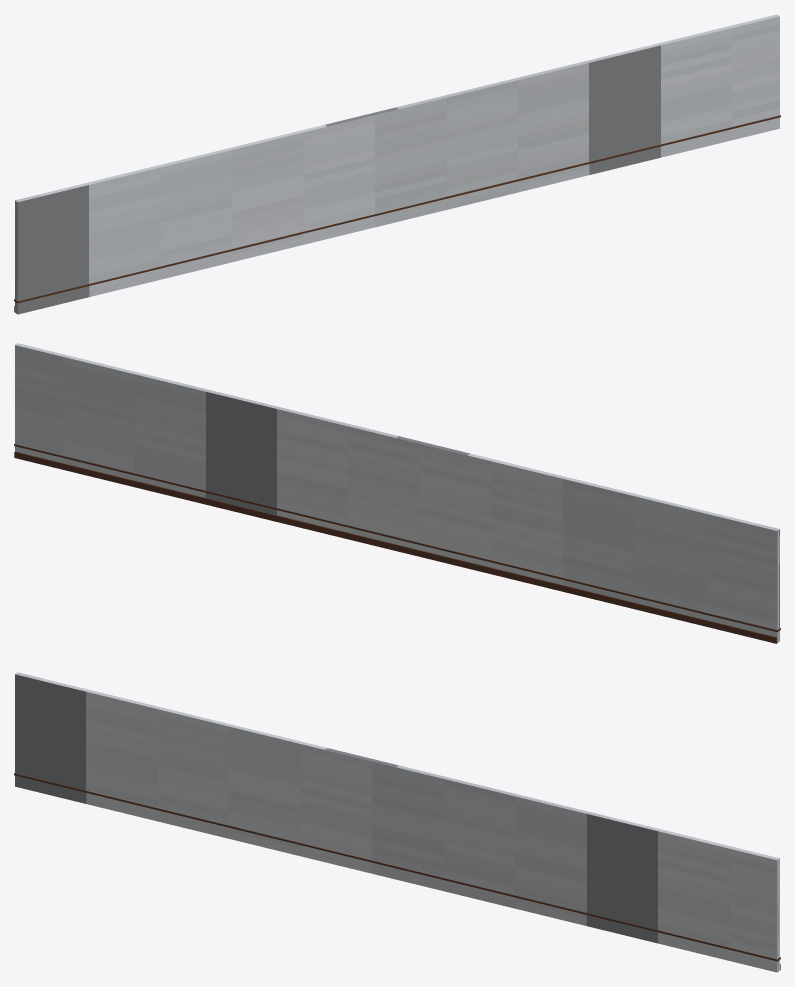
Rendered from wall_s.glb.
The picture shows the model from 3 angles, top to bottom: view 1: azimuth 30°, elevation 25°; view 2: azimuth 150°, elevation 25°; view 3: azimuth 330°, elevation 25°; orthographic projection.
Visible parts, largest first — view 1: Box1, Box3, Box4; view 2: Box1, Box2, Box3, Box4; view 3: Box1, Box3, Box4.
Boxes of the visible parts, box(x1,y1,x2,y2) form: Box1: box(15, 14, 779, 314); Box3: box(15, 117, 779, 313); Box4: box(14, 115, 780, 303); Box1: box(15, 343, 779, 642); Box2: box(14, 451, 777, 643); Box3: box(15, 446, 779, 642); Box4: box(14, 444, 780, 631); Box1: box(15, 672, 779, 972); Box3: box(15, 776, 779, 971); Box4: box(14, 773, 780, 961).
Size of the model in its own units: 24.19 by 3.4 by 0.21.
2 materials, 1 textured.
